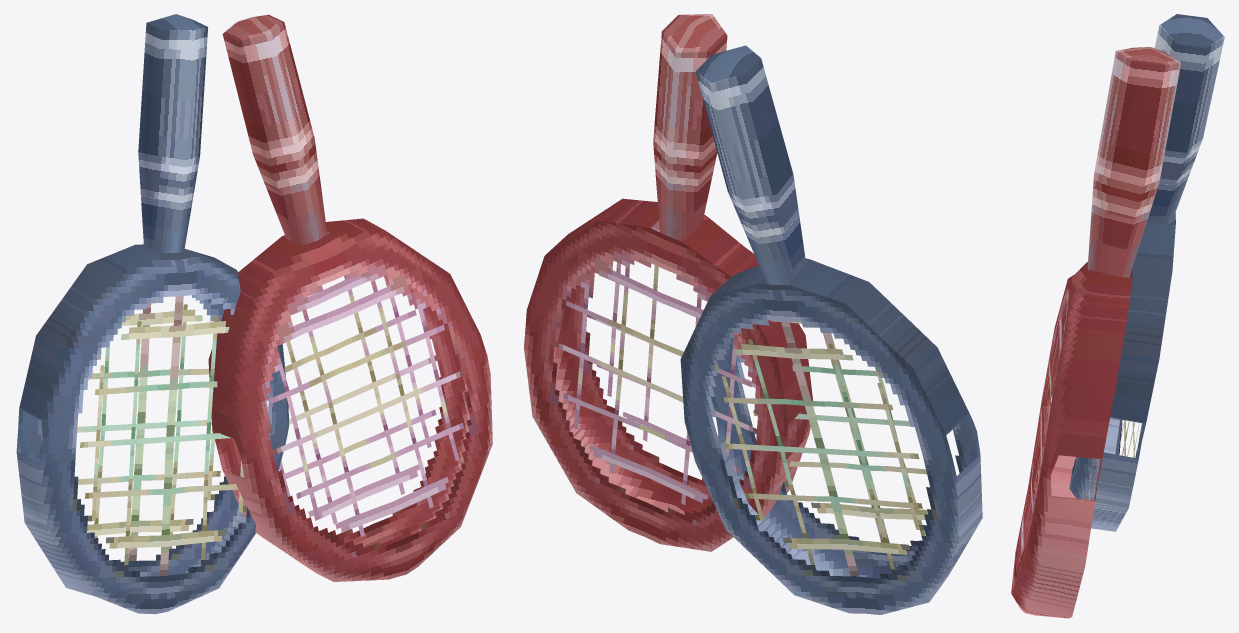
Rendered from teni25.glb.
3 renders of one model, left to right at view 1: azimuth 30°, elevation 25°; view 2: azimuth 150°, elevation 25°; view 3: azimuth 270°, elevation 25°, orthographic. The views are drawn at different scales.
Visible parts, largest first — view 1: teni25; view 2: teni25; view 3: teni25.
Boxes of the visible parts, x1=… form: teni25: x1=16, y1=14, x2=492, y2=614; teni25: x1=524, y1=14, x2=982, y2=614; teni25: x1=1011, y1=14, x2=1224, y2=618.
Size of the model in its own units: 112 by 134 by 49.
Materials: 2 (2 with a texture image).
